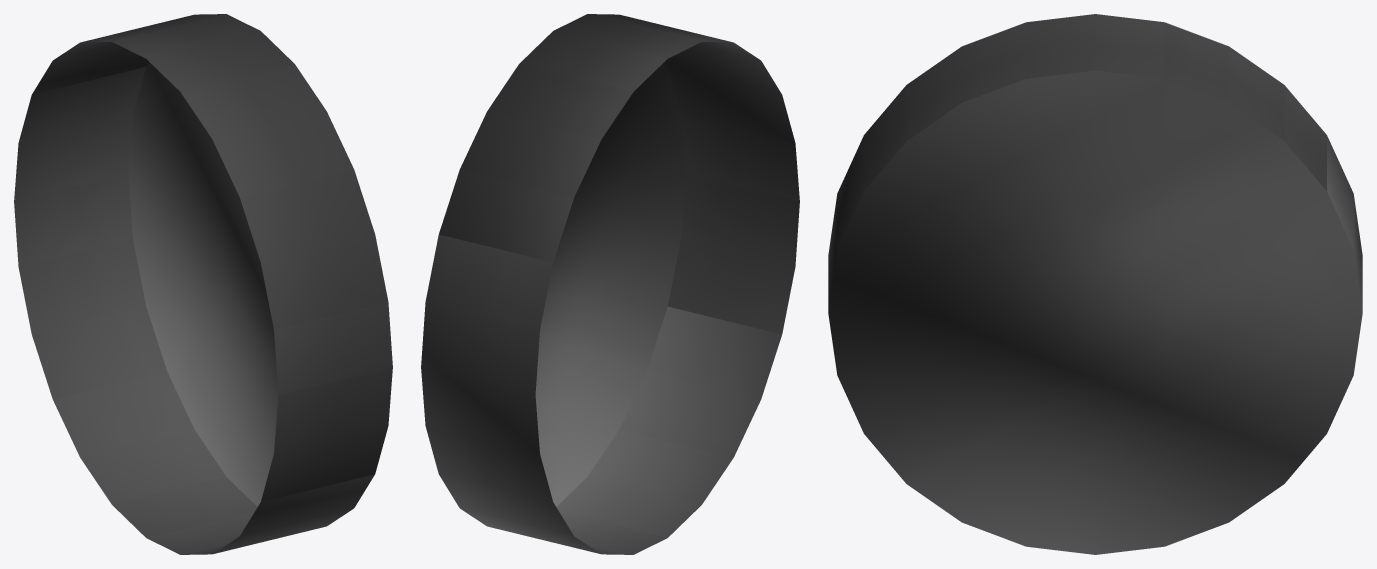
Rendered from original-96.obj.
The picture shows the model from 3 angles, left to right: view 1: azimuth 30°, elevation 25°; view 2: azimuth 150°, elevation 25°; view 3: azimuth 270°, elevation 25°; orthographic projection.
Visible parts, largest first — view 1: mesh107/mesh107-geometry#mesh107-geometry; view 2: mesh107/mesh107-geometry#mesh107-geometry; view 3: mesh107/mesh107-geometry#mesh107-geometry.
Boxes of the visible parts, bbox=[...] form: mesh107/mesh107-geometry#mesh107-geometry: bbox=[14, 14, 392, 554]; mesh107/mesh107-geometry#mesh107-geometry: bbox=[421, 14, 799, 554]; mesh107/mesh107-geometry#mesh107-geometry: bbox=[828, 14, 1362, 554].
Size of the model in its own units: 0.0053 by 0.0212 by 0.0212.
